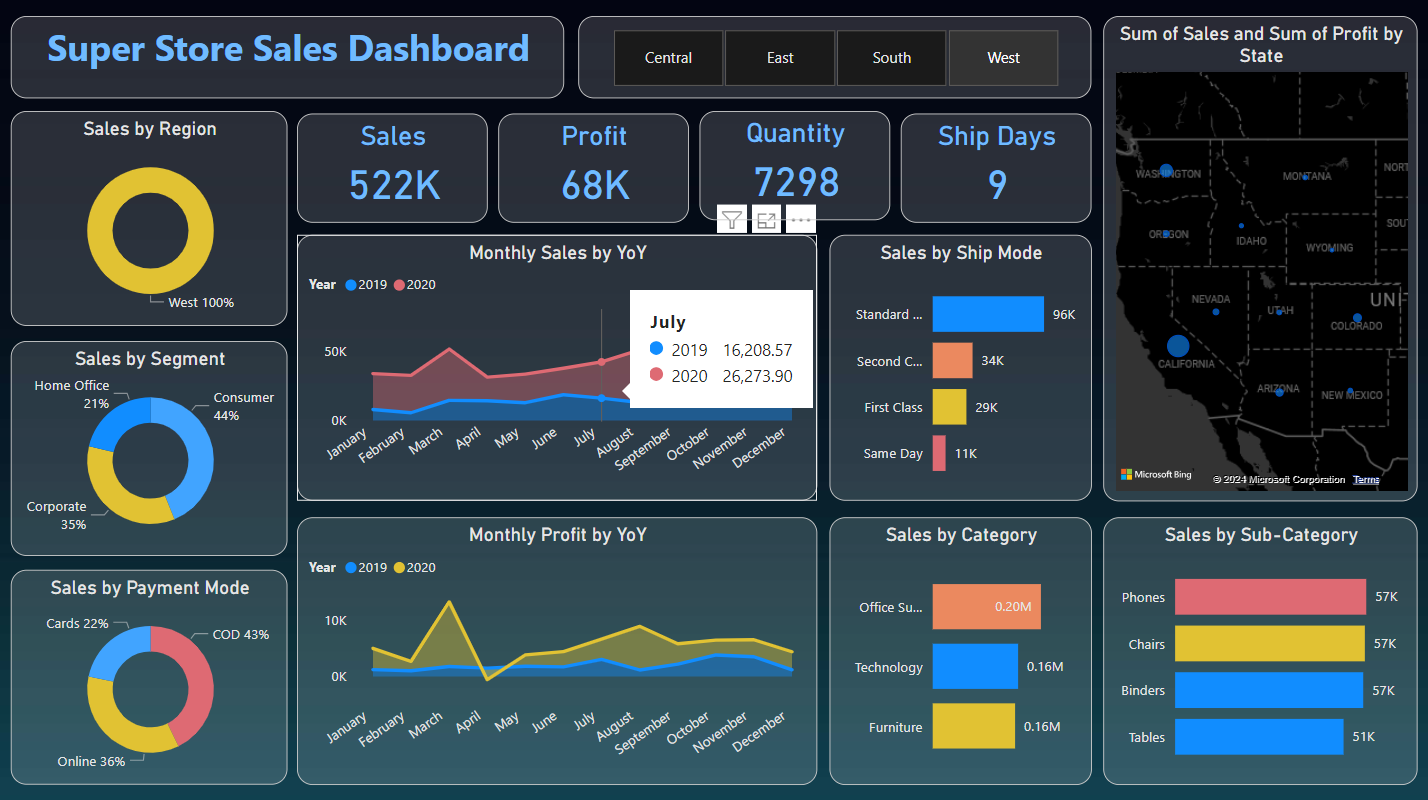

This screenshot's page, from the dashboard's own definition file:
{"tool":"powerbi","page":{"name":"Page 1","canvas":[1280,720],"ordinal":0},"visuals":[{"type":"clusteredBarChart","title":"Sales by Category","fields":{"Category":["SuperStore_Sales_Dataset.Category"],"Y":["Sum(SuperStore_Sales_Dataset.Sales)"]},"box":[743.3,465.9,234.1,238.9],"z":0},{"type":"clusteredBarChart","title":"Sales by Sub-Category","fields":{"Category":["SuperStore_Sales_Dataset.Sub-Category"],"Y":["Sum(SuperStore_Sales_Dataset.Sales)"]},"box":[988.2,465.9,281,238.9],"z":1000},{"type":"clusteredBarChart","title":"Sales by Ship Mode","fields":{"Category":["SuperStore_Sales_Dataset.Ship Mode"],"Y":["Sum(SuperStore_Sales_Dataset.Sales)"]},"box":[743.3,213.7,234.1,237.7],"z":2000},{"type":"stackedAreaChart","title":"Monthly Sales by YoY","fields":{"Category":["SuperStore_Sales_Dataset.Order Date.Variation.Date Hierarchy.Month"],"Y":["Sum(SuperStore_Sales_Dataset.Sales)"],"Series":["SuperStore_Sales_Dataset.Order Date.Variation.Date Hierarchy.Year"]},"box":[267.8,213.7,464.7,237.7],"z":3000},{"type":"stackedAreaChart","title":"Monthly Profit by YoY","fields":{"Category":["SuperStore_Sales_Dataset.Order Date.Variation.Date Hierarchy.Month"],"Series":["SuperStore_Sales_Dataset.Order Date.Variation.Date Hierarchy.Year"],"Y":["Sum(SuperStore_Sales_Dataset.Profit)"]},"box":[267.8,465.9,464.7,238.9],"z":4000},{"type":"map","fields":{"Category":["SuperStore_Sales_Dataset.State"],"Size":["Sum(SuperStore_Sales_Dataset.Sales)"]},"box":[988.2,18,281,433.5],"z":5000},{"type":"donutChart","title":"Sales by Segment","fields":{"Category":["SuperStore_Sales_Dataset.Segment"],"Y":["Sum(SuperStore_Sales_Dataset.Sales)"]},"box":[12,308.6,247.4,192.1],"z":6000},{"type":"donutChart","title":"Sales by Payment Mode","fields":{"Category":["SuperStore_Sales_Dataset.Payment Mode"],"Y":["Sum(SuperStore_Sales_Dataset.Sales)"]},"box":[12,512.7,247.4,192.1],"z":7000},{"type":"slicer","fields":{"Values":["SuperStore_Sales_Dataset.Region"]},"box":[518.7,18,458.7,73.2],"z":8000},{"type":"textbox","box":[12,18,494.7,73.2],"z":9000},{"type":"card","title":"Sales","fields":{"Values":["Sum(SuperStore_Sales_Dataset.Sales)"]},"box":[267.8,104.5,170.5,97.3],"z":10000},{"type":"card","title":"Profit","fields":{"Values":["Sum(SuperStore_Sales_Dataset.Profit)"]},"box":[447.9,104.5,170.5,97.3],"z":11000},{"type":"card","title":"Quantity","fields":{"Values":["Sum(SuperStore_Sales_Dataset.Quantity)"]},"box":[628,103.3,170.5,97.3],"z":12000},{"type":"card","title":"Ship Days","fields":{"Values":["Avg(SuperStore_Sales_Dataset.Shipment Days)"]},"box":[806.9,104.5,170.5,97.3],"z":13000},{"type":"donutChart","title":"Sales by Region","fields":{"Y":["Sum(SuperStore_Sales_Dataset.Sales)"],"Category":["SuperStore_Sales_Dataset.Region"]},"box":[12,103.3,247.4,192.1],"z":14000}]}

Visuals, with their boxes in screenshot pixels (x1, y1, x2, y2), scaled from the page's 1280x720 canvas onto the 1428x800 screenshot:
"Sales by Category" clusteredBarChart: <bbox>829, 518, 1090, 783</bbox>
"Sales by Sub-Category" clusteredBarChart: <bbox>1102, 518, 1416, 783</bbox>
"Sales by Ship Mode" clusteredBarChart: <bbox>829, 237, 1090, 502</bbox>
"Monthly Sales by YoY" stackedAreaChart: <bbox>299, 237, 817, 502</bbox>
"Monthly Profit by YoY" stackedAreaChart: <bbox>299, 518, 817, 783</bbox>
map - SuperStore_Sales_Dataset.State x Sum(SuperStore_Sales_Dataset.Sales): <bbox>1102, 20, 1416, 502</bbox>
"Sales by Segment" donutChart: <bbox>13, 343, 289, 556</bbox>
"Sales by Payment Mode" donutChart: <bbox>13, 570, 289, 783</bbox>
slicer - SuperStore_Sales_Dataset.Region: <bbox>579, 20, 1090, 101</bbox>
textbox: <bbox>13, 20, 565, 101</bbox>
"Sales" card: <bbox>299, 116, 489, 224</bbox>
"Profit" card: <bbox>500, 116, 690, 224</bbox>
"Quantity" card: <bbox>701, 115, 891, 223</bbox>
"Ship Days" card: <bbox>900, 116, 1090, 224</bbox>
"Sales by Region" donutChart: <bbox>13, 115, 289, 328</bbox>
